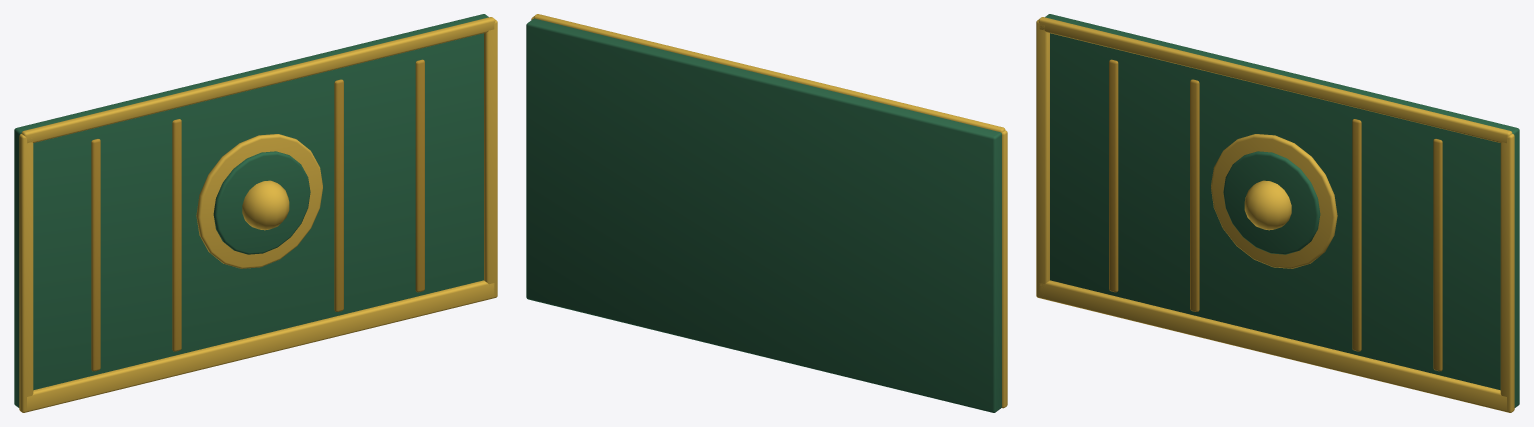
File: un_wall.glb
3 renders of one model, left to right at view 1: azimuth 30°, elevation 25°; view 2: azimuth 150°, elevation 25°; view 3: azimuth 330°, elevation 25°, orthographic.
Parts seen in each view (by area): view 1: un_wall; view 2: un_wall; view 3: un_wall.
Part boxes in pixels (x1,y1,x2,y2): un_wall: (14,14,497,412); un_wall: (526,14,1007,412); un_wall: (1036,14,1519,412).
Bounding box in the file's own units: 6.46 × 3.63 × 0.6554.
